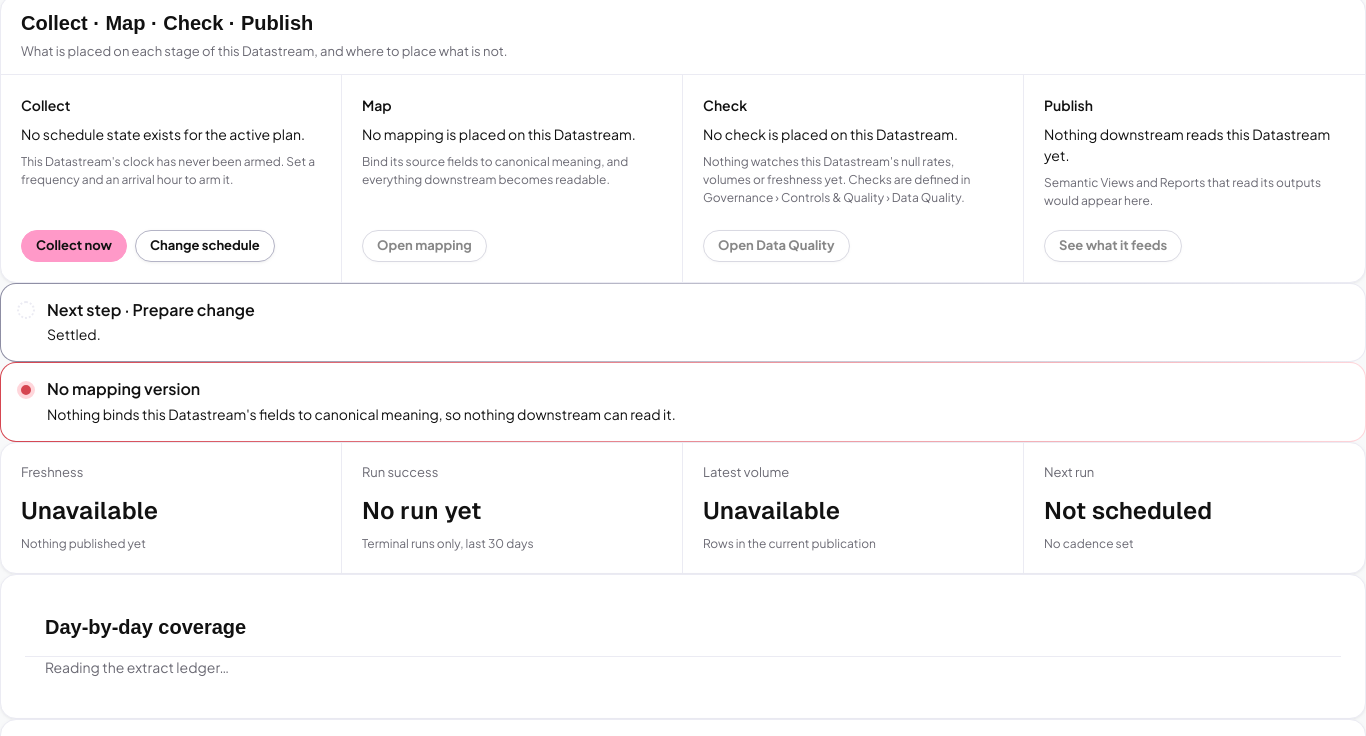
the four stages of the flow › edits the schedule from `Collect`, with cadence, arrival hour AND next run
The width and height of the screenshot is (1366, 736).
Click the button with test id "stage-collect-action" at (205, 246), box [135,230,275,262]
(page scrolled)
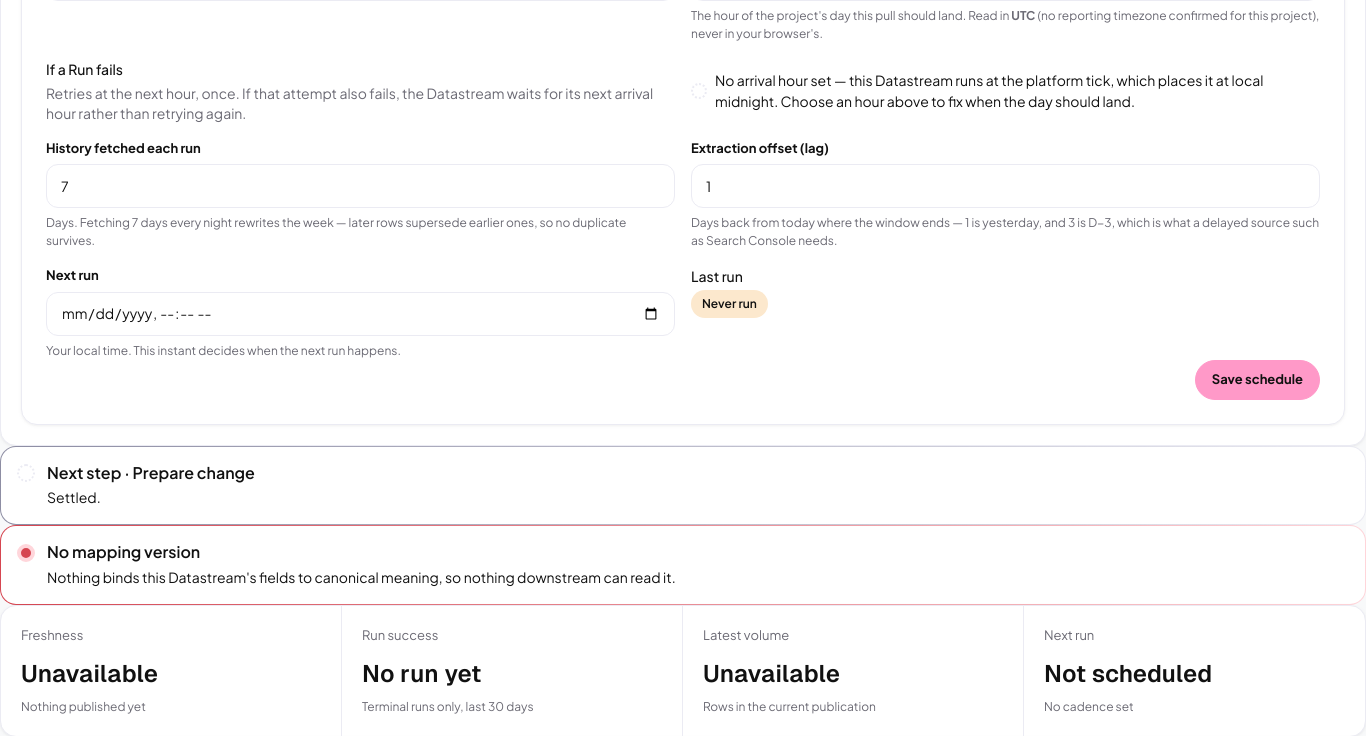
Expected: the field with test id "schedule-next-run" is shown, [46,292,675,336]
Expected: the button with test id "schedule-save" is shown, [1195,360,1320,400]
